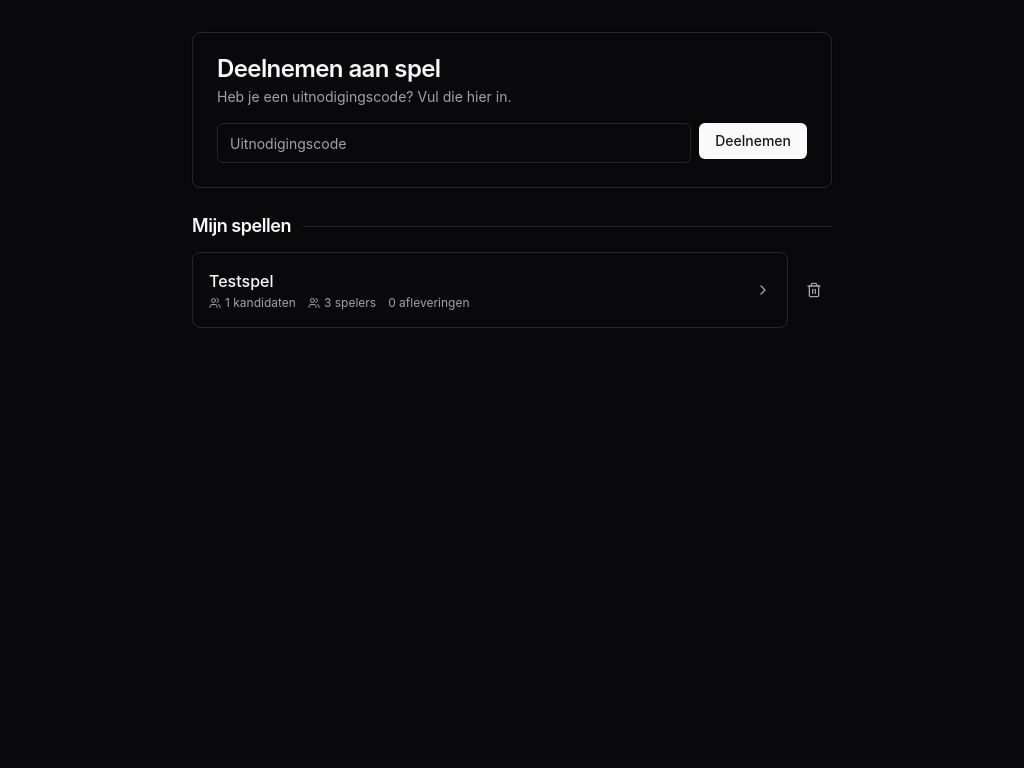
Scenario: HomePage › shows confirmation dialog when delete button is clicked
Expected: the text "Testspel" is shown, [209, 271, 274, 291]
Click the button named "spel verwijderen".
click(814, 290)  # box [796, 272, 832, 308]
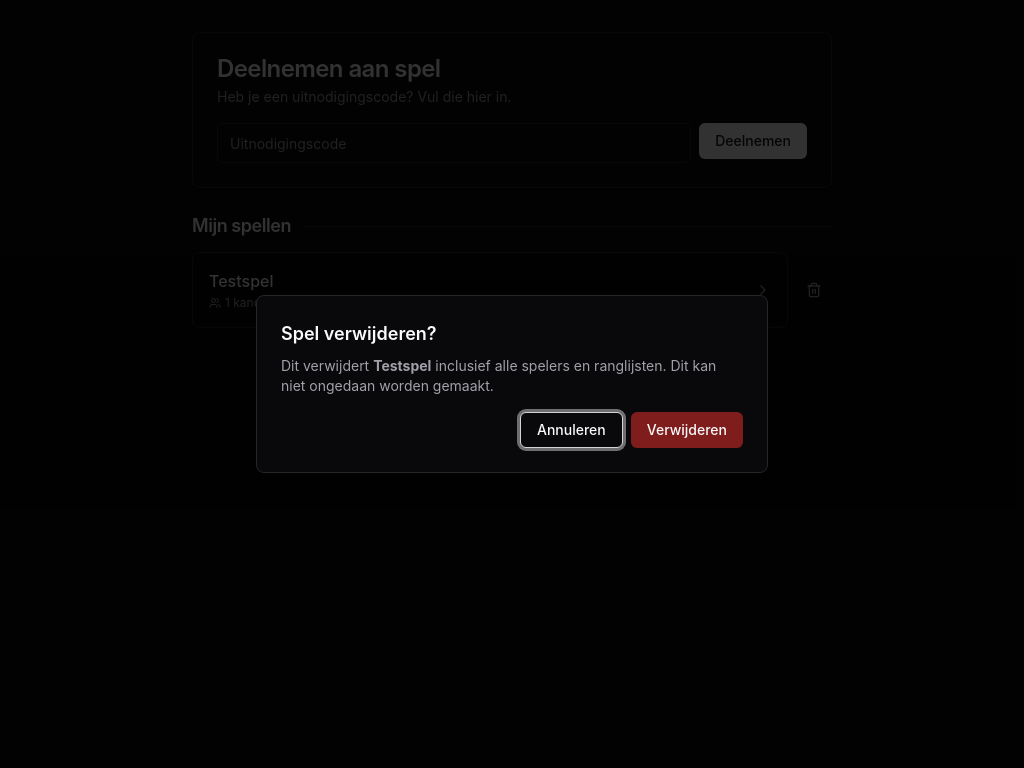
Now the heading "Spel verwijderen?" is shown, box [281, 323, 437, 344]
Now the text "Testspel" is shown, box [373, 357, 431, 374]
